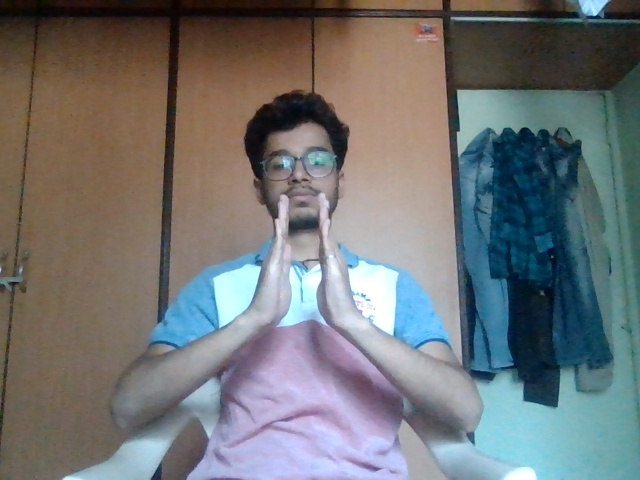morning: (251, 186, 395, 365)
